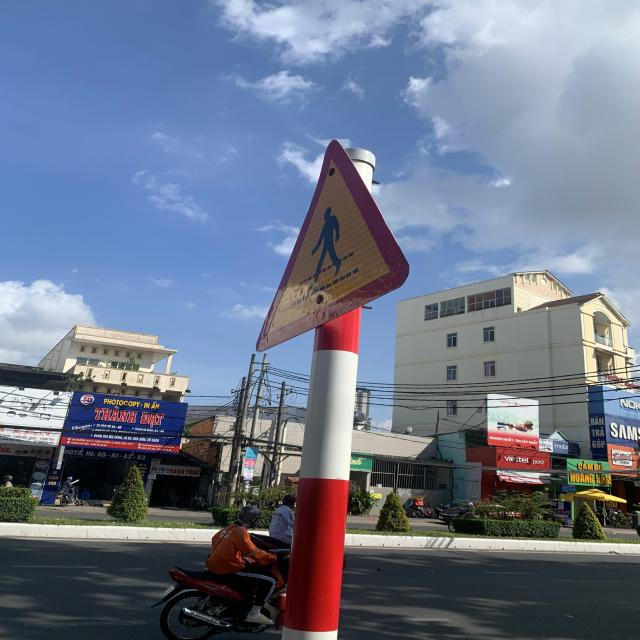Duong_Nguoi_Di_Bo_Sang_Ngang: (256, 138, 411, 358)
